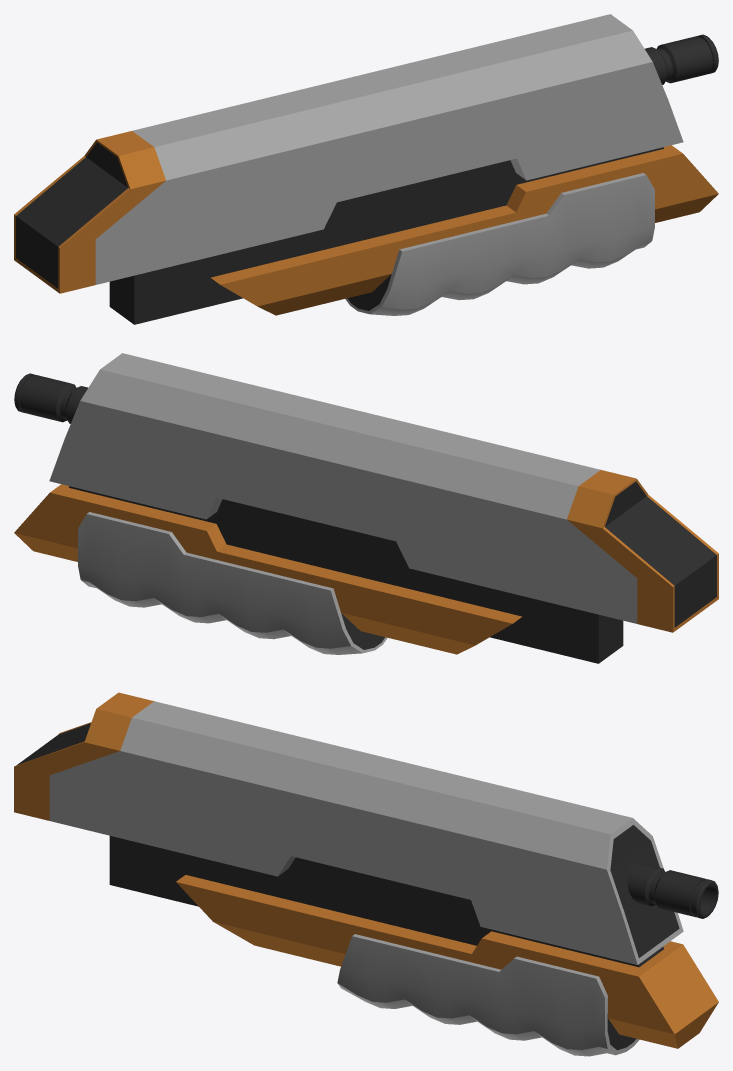
Rendered from Body_AR4.glb.
The picture shows the model from 3 angles, top to bottom: view 1: azimuth 30°, elevation 25°; view 2: azimuth 150°, elevation 25°; view 3: azimuth 330°, elevation 25°; orthographic projection.
Visible parts, largest first — view 1: Body_AR4; view 2: Body_AR4; view 3: Body_AR4.
Part boxes in pixels (x1=…): Body_AR4: x1=14, y1=14, x2=718, y2=324; Body_AR4: x1=14, y1=353, x2=718, y2=663; Body_AR4: x1=14, y1=692, x2=718, y2=1056.
Bounding box in the file's own units: 0.9739 × 0.3202 × 0.1258.
